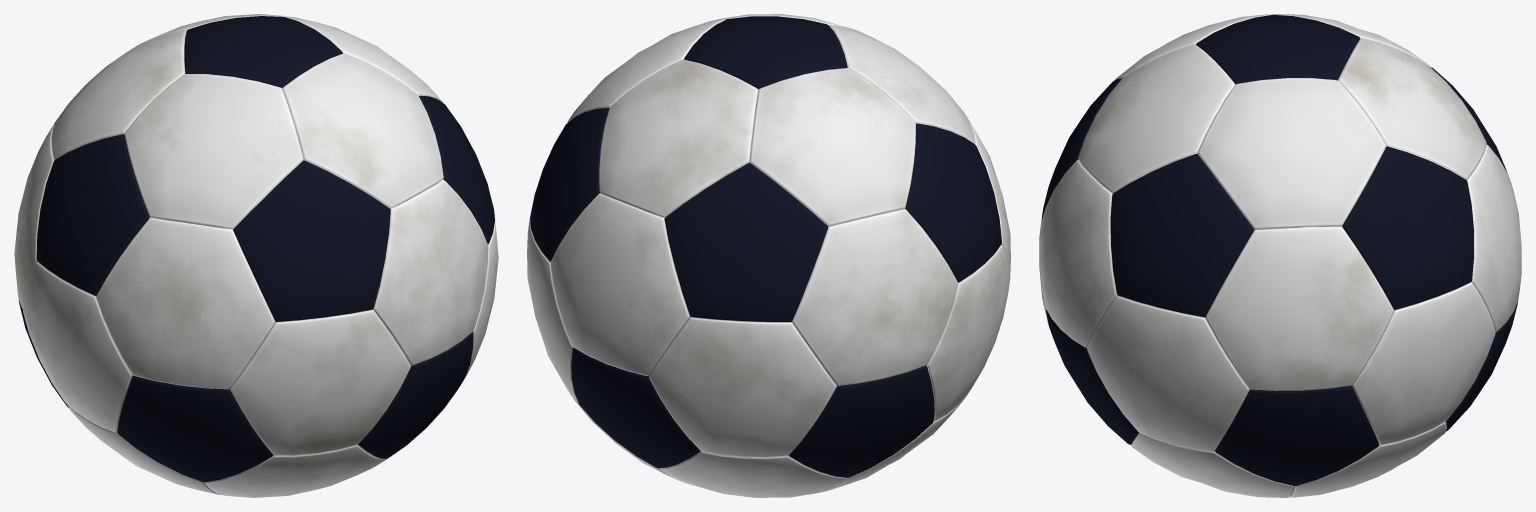
File: Ball.fbx
3 views of the same model, side by side, from view 1: azimuth 30°, elevation 25°; view 2: azimuth 150°, elevation 25°; view 3: azimuth 270°, elevation 25° (orthographic).
Parts seen in each view (by area): view 1: Soccer ball; view 2: Soccer ball; view 3: Soccer ball.
Part boxes in pixels (left/top/right/bottom): Soccer ball: left=14, top=14, right=498, bottom=497; Soccer ball: left=527, top=14, right=1010, bottom=497; Soccer ball: left=1039, top=14, right=1521, bottom=497.
Bounding box in the file's own units: 29.96 × 30 × 29.88.
